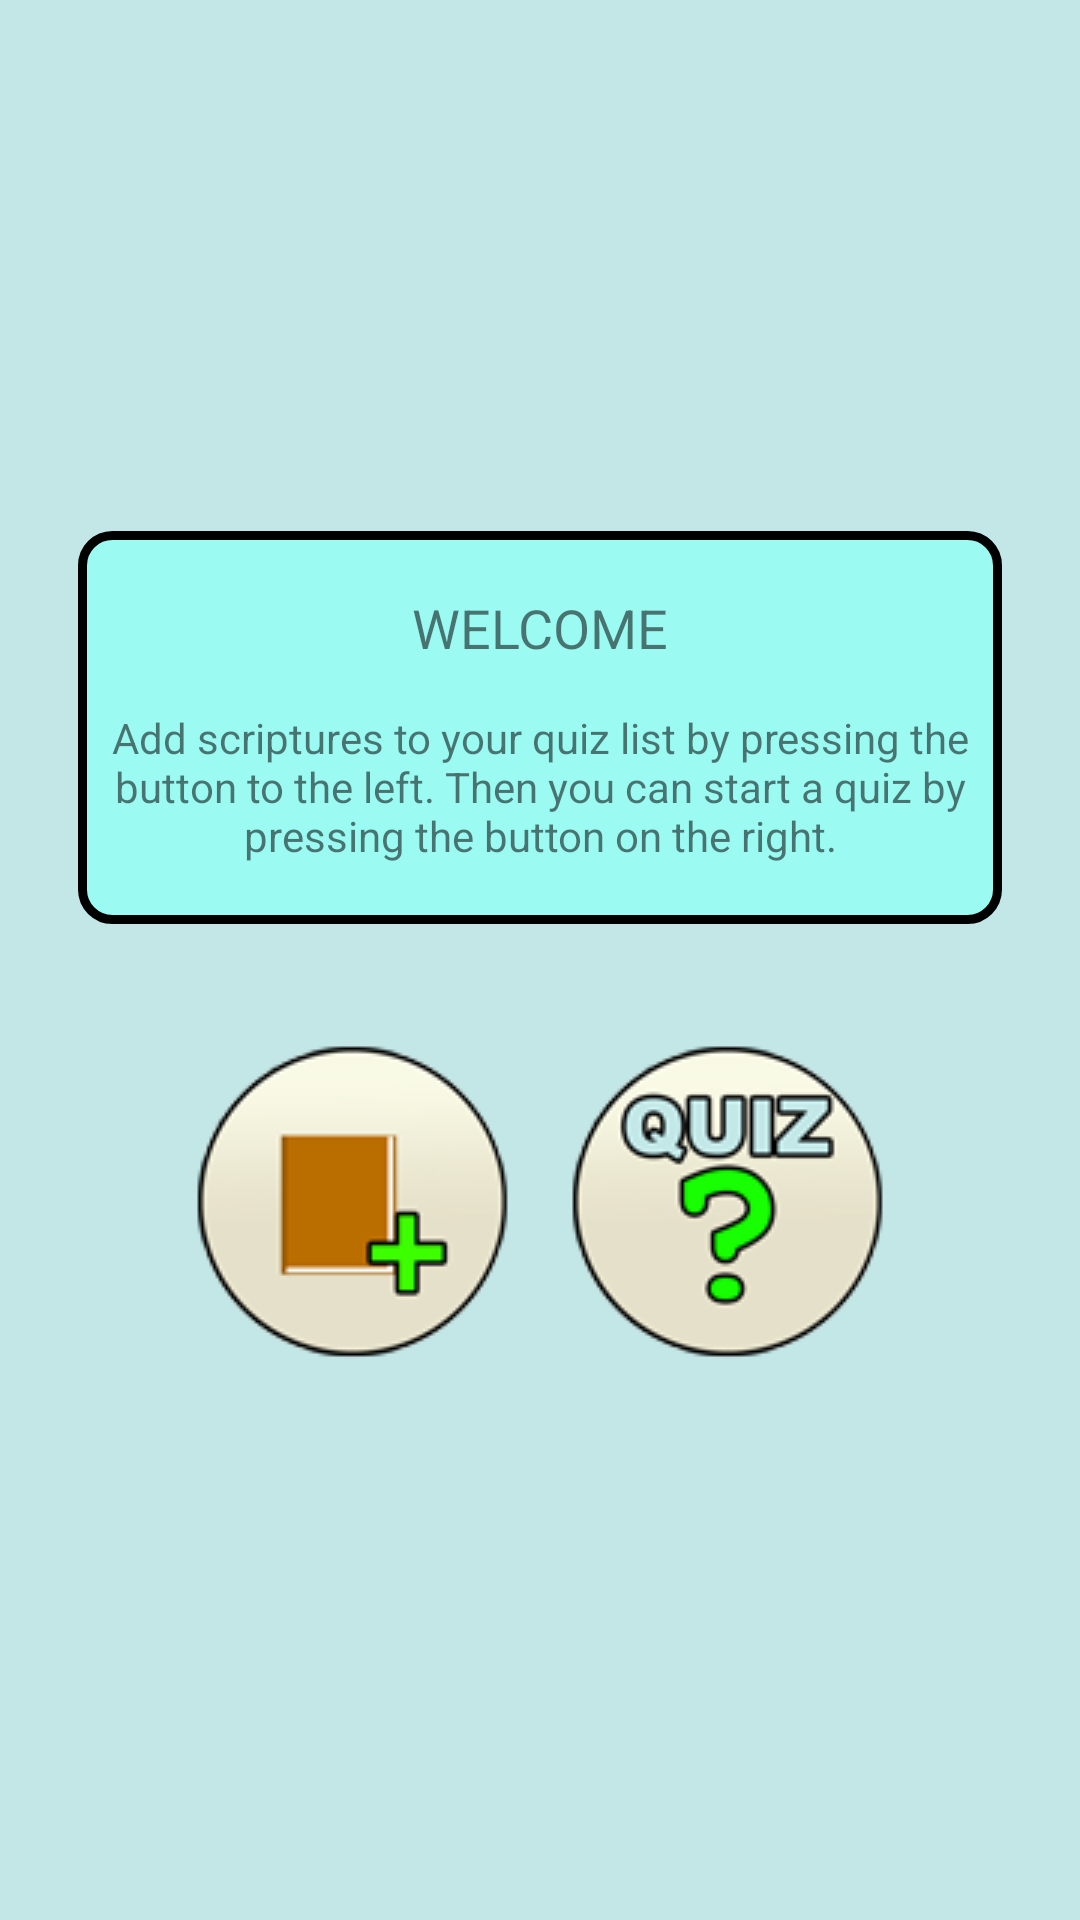

Where icons sit on this 1080x1920 app screen, as region(x1, y1, x2, y2):
buttonaddscripture: region(197, 1046, 508, 1357)
